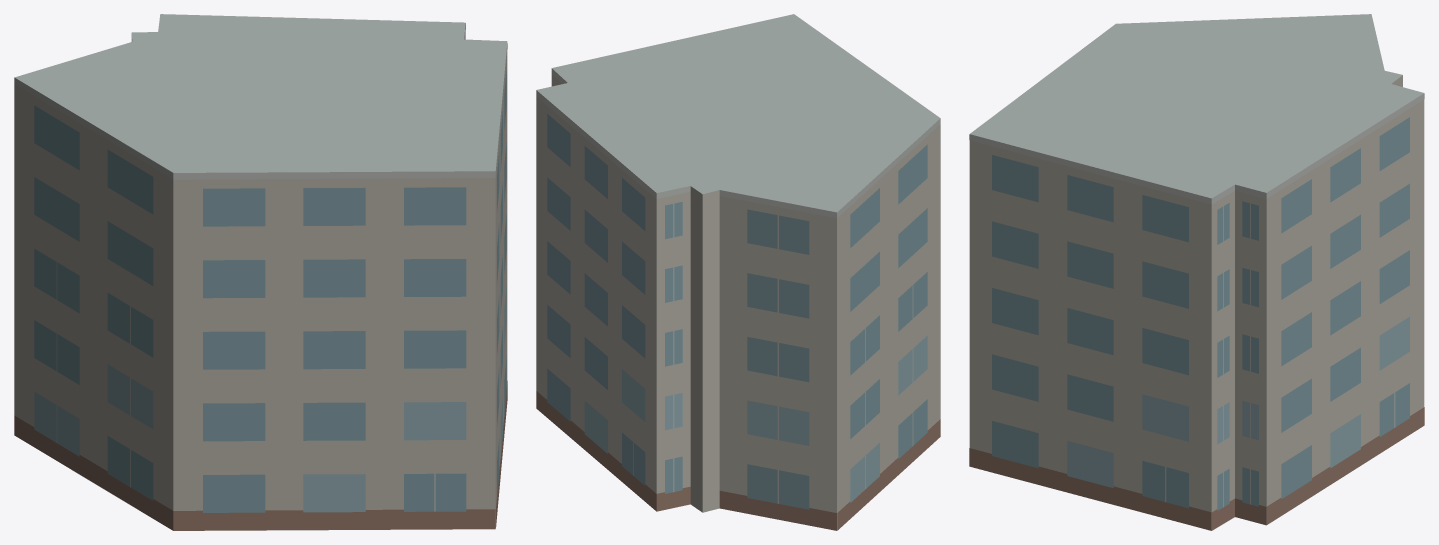
File: survey-upis-32572607.glb
3 views of the same model, side by side, from view 1: azimuth 30°, elevation 25°; view 2: azimuth 150°, elevation 25°; view 3: azimuth 270°, elevation 25° (orthographic). The views are drawn at different scales.
Visible parts, largest first — view 1: survey-upis-32572607.tmp; view 2: survey-upis-32572607.tmp; view 3: survey-upis-32572607.tmp.
Part boxes in pixels (bbox=[...]): survey-upis-32572607.tmp: bbox=[14, 14, 507, 530]; survey-upis-32572607.tmp: bbox=[536, 14, 940, 530]; survey-upis-32572607.tmp: bbox=[969, 14, 1424, 530].
Bounding box in the file's own units: 15.67 × 13.16 × 16.33.
